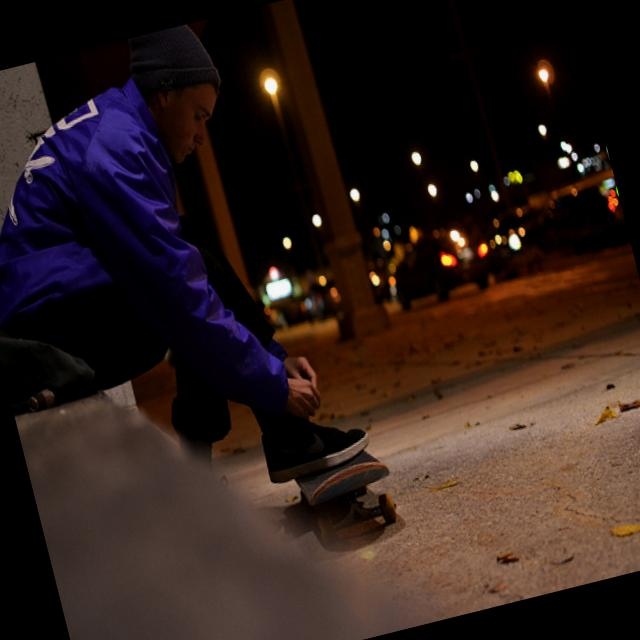Vehicle: (384, 223, 491, 311)
